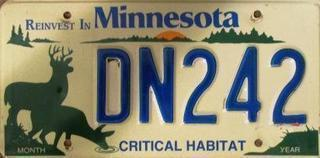placa de veiculo: (3, 1, 311, 153)
